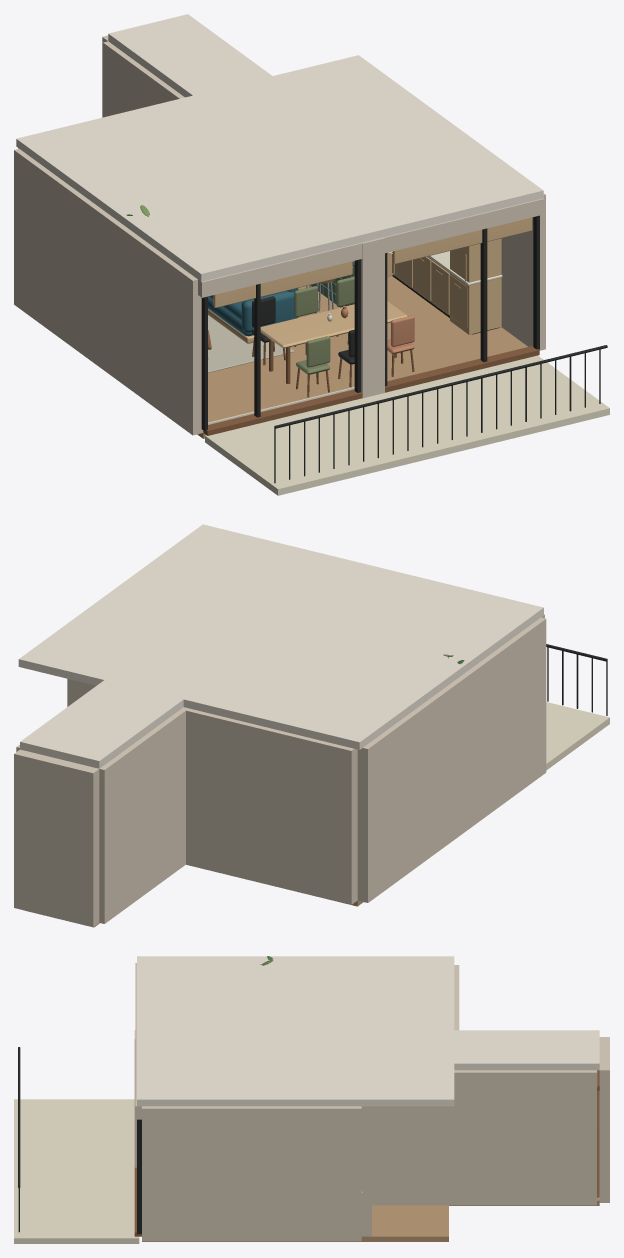
The model's file is home.glb.
The picture shows the model from 3 angles, top to bottom: view 1: azimuth 30°, elevation 25°; view 2: azimuth 150°, elevation 25°; view 3: azimuth 270°, elevation 25°; orthographic projection. The views are drawn at different scales.
Parts seen in each view (by area): view 1: Ceiling, Limewash, Tile_Cream, OakLight, Floor_Wood, Black, Walnut, Olive, Rug, Sofa_Blue, Terracotta, Cream; view 2: Limewash, Ceiling, Tile_Cream, Black; view 3: Limewash, Ceiling, Tile_Cream, Floor_Wood, Black.
Part boxes in pixels (x1=…): Ceiling: x1=16, y1=14, x2=543, y2=281; Limewash: x1=14, y1=35, x2=545, y2=435; Tile_Cream: x1=205, y1=355, x2=609, y2=495; OakLight: x1=208, y1=217, x2=532, y2=348; Floor_Wood: x1=197, y1=275, x2=527, y2=438; Black: x1=201, y1=215, x2=607, y2=483; Walnut: x1=203, y1=252, x2=539, y2=435; Olive: x1=294, y1=276, x2=354, y2=374; Rug: x1=208, y1=315, x2=294, y2=372; Sofa_Blue: x1=208, y1=288, x2=298, y2=336; Terracotta: x1=341, y1=305, x2=414, y2=353; Cream: x1=208, y1=251, x2=502, y2=424; Limewash: x1=14, y1=614, x2=546, y2=927; Ceiling: x1=18, y1=524, x2=543, y2=768; Tile_Cream: x1=546, y1=702, x2=609, y2=770; Black: x1=546, y1=644, x2=607, y2=715; Limewash: x1=134, y1=963, x2=609, y2=1241; Ceiling: x1=137, y1=956, x2=599, y2=1106; Tile_Cream: x1=14, y1=1099, x2=139, y2=1243; Floor_Wood: x1=142, y1=1197, x2=599, y2=1241; Black: x1=18, y1=1047, x2=141, y2=1233.
Bounding box in the file's own units: 6.69 × 3.19 × 11.4.
